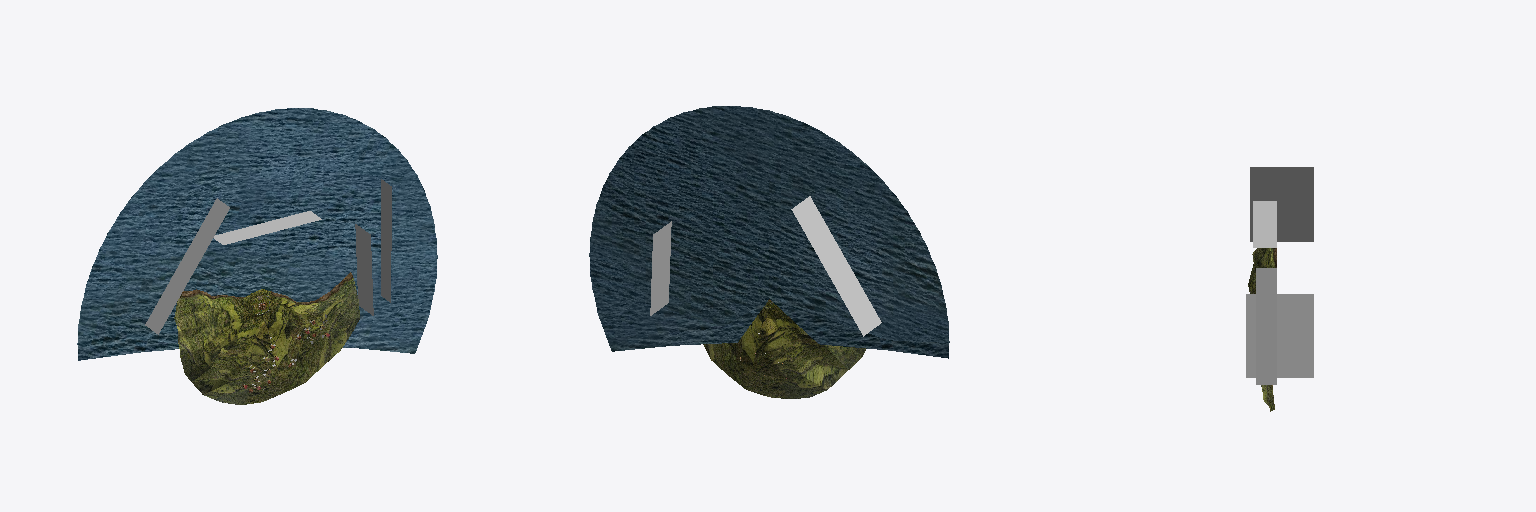
3 renders of one model, left to right at view 1: azimuth 30°, elevation 25°; view 2: azimuth 150°, elevation 25°; view 3: azimuth 270°, elevation 25°, orthographic.
Visible parts, largest first — view 1: Object.11, Object.17, Object.1, Object.4, Object.6; view 2: Object.11, Object.17, Object.9, Object.3; view 3: Object.3, Object.9, Object.6, Object.11, Object.1, Object.17, Object.4.
Part boxes in pixels (x1,y1,x2,y2): Object.11: (77, 108, 437, 360); Object.17: (174, 272, 359, 404); Object.1: (145, 198, 229, 334); Object.4: (355, 224, 373, 315); Object.6: (381, 179, 391, 302); Object.11: (589, 106, 949, 358); Object.17: (703, 305, 865, 398); Object.9: (791, 196, 881, 336); Object.3: (650, 221, 671, 315); Object.3: (1277, 294, 1313, 377); Object.9: (1277, 167, 1313, 241); Object.6: (1256, 268, 1276, 384); Object.11: (1253, 201, 1276, 247); Object.1: (1250, 167, 1276, 241); Object.17: (1248, 248, 1276, 411); Object.4: (1246, 294, 1255, 377).
Size of the model in its own units: 103942 by 79622 by 17146.
Materials: 51 (46 with a texture image).